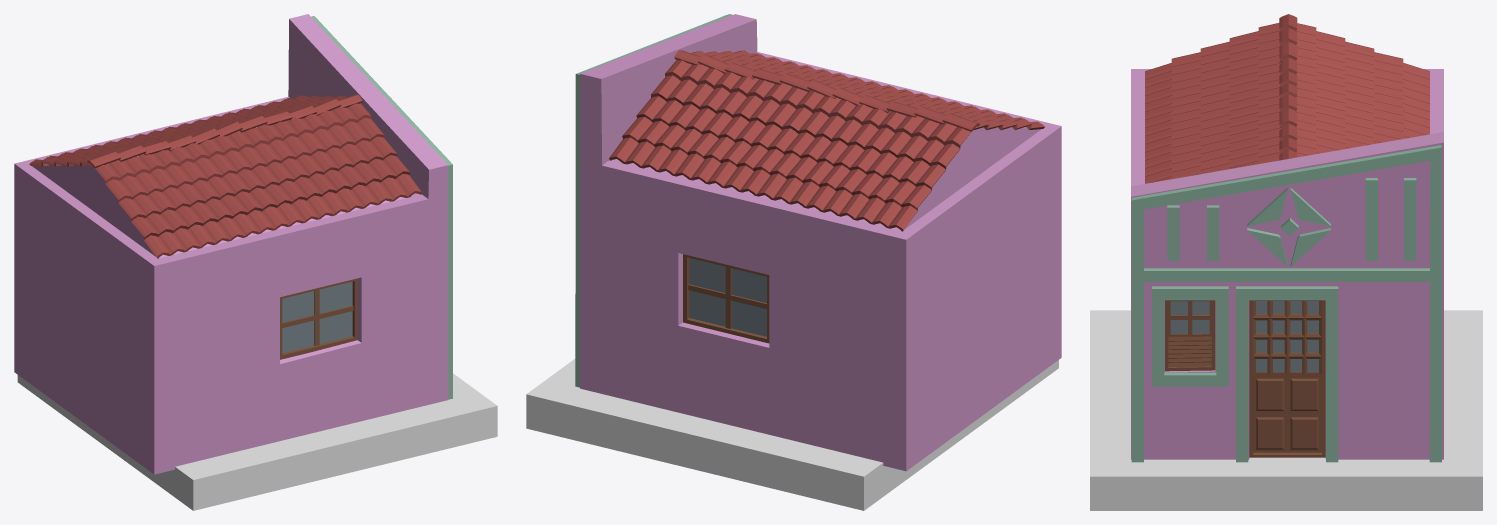
Rendered from casa6.fbx.
3 views of the same model, side by side, from view 1: azimuth 30°, elevation 25°; view 2: azimuth 150°, elevation 25°; view 3: azimuth 270°, elevation 25° (orthographic). The views are drawn at different scales.
Visible parts, largest first — view 1: Cube.021, Cube.011; view 2: Cube.021, Cube.011; view 3: Cube.021, Cube.011.
Boxes of the visible parts, x1,y1,x2,y2 form: Cube.021: [14, 14, 452, 474]; Cube.011: [17, 373, 497, 510]; Cube.021: [575, 14, 1061, 471]; Cube.011: [526, 359, 1058, 510]; Cube.021: [1131, 14, 1443, 462]; Cube.011: [1090, 310, 1482, 510].
Size of the model in its own units: 268 by 248 by 251.
